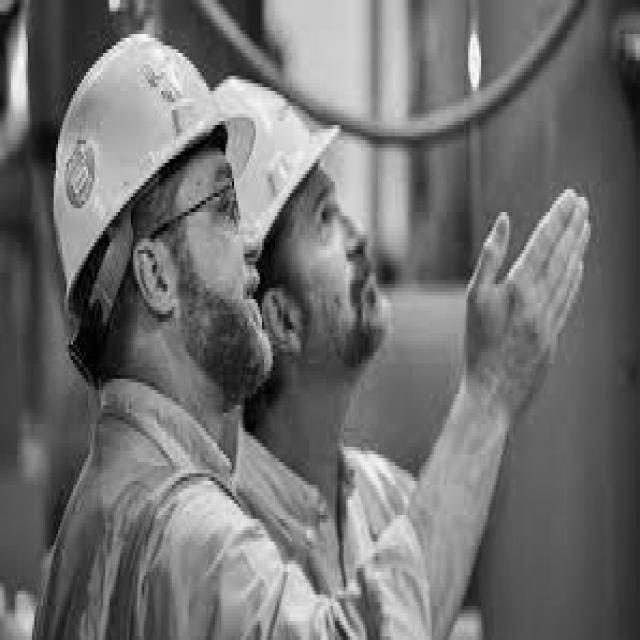construction helmet: (52, 34, 226, 390), (204, 80, 337, 261)
